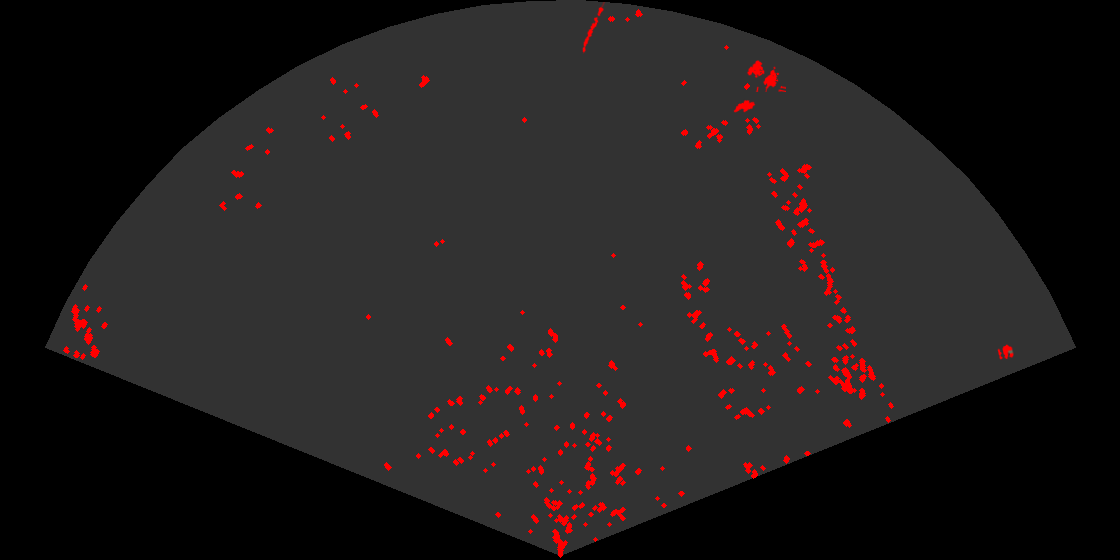AUV: (732, 98, 757, 114)
ball: (996, 343, 1015, 361)
cage: (745, 59, 786, 92)
chain: (581, 2, 607, 54)
